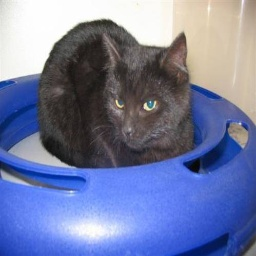cat: (34, 18, 197, 166)
